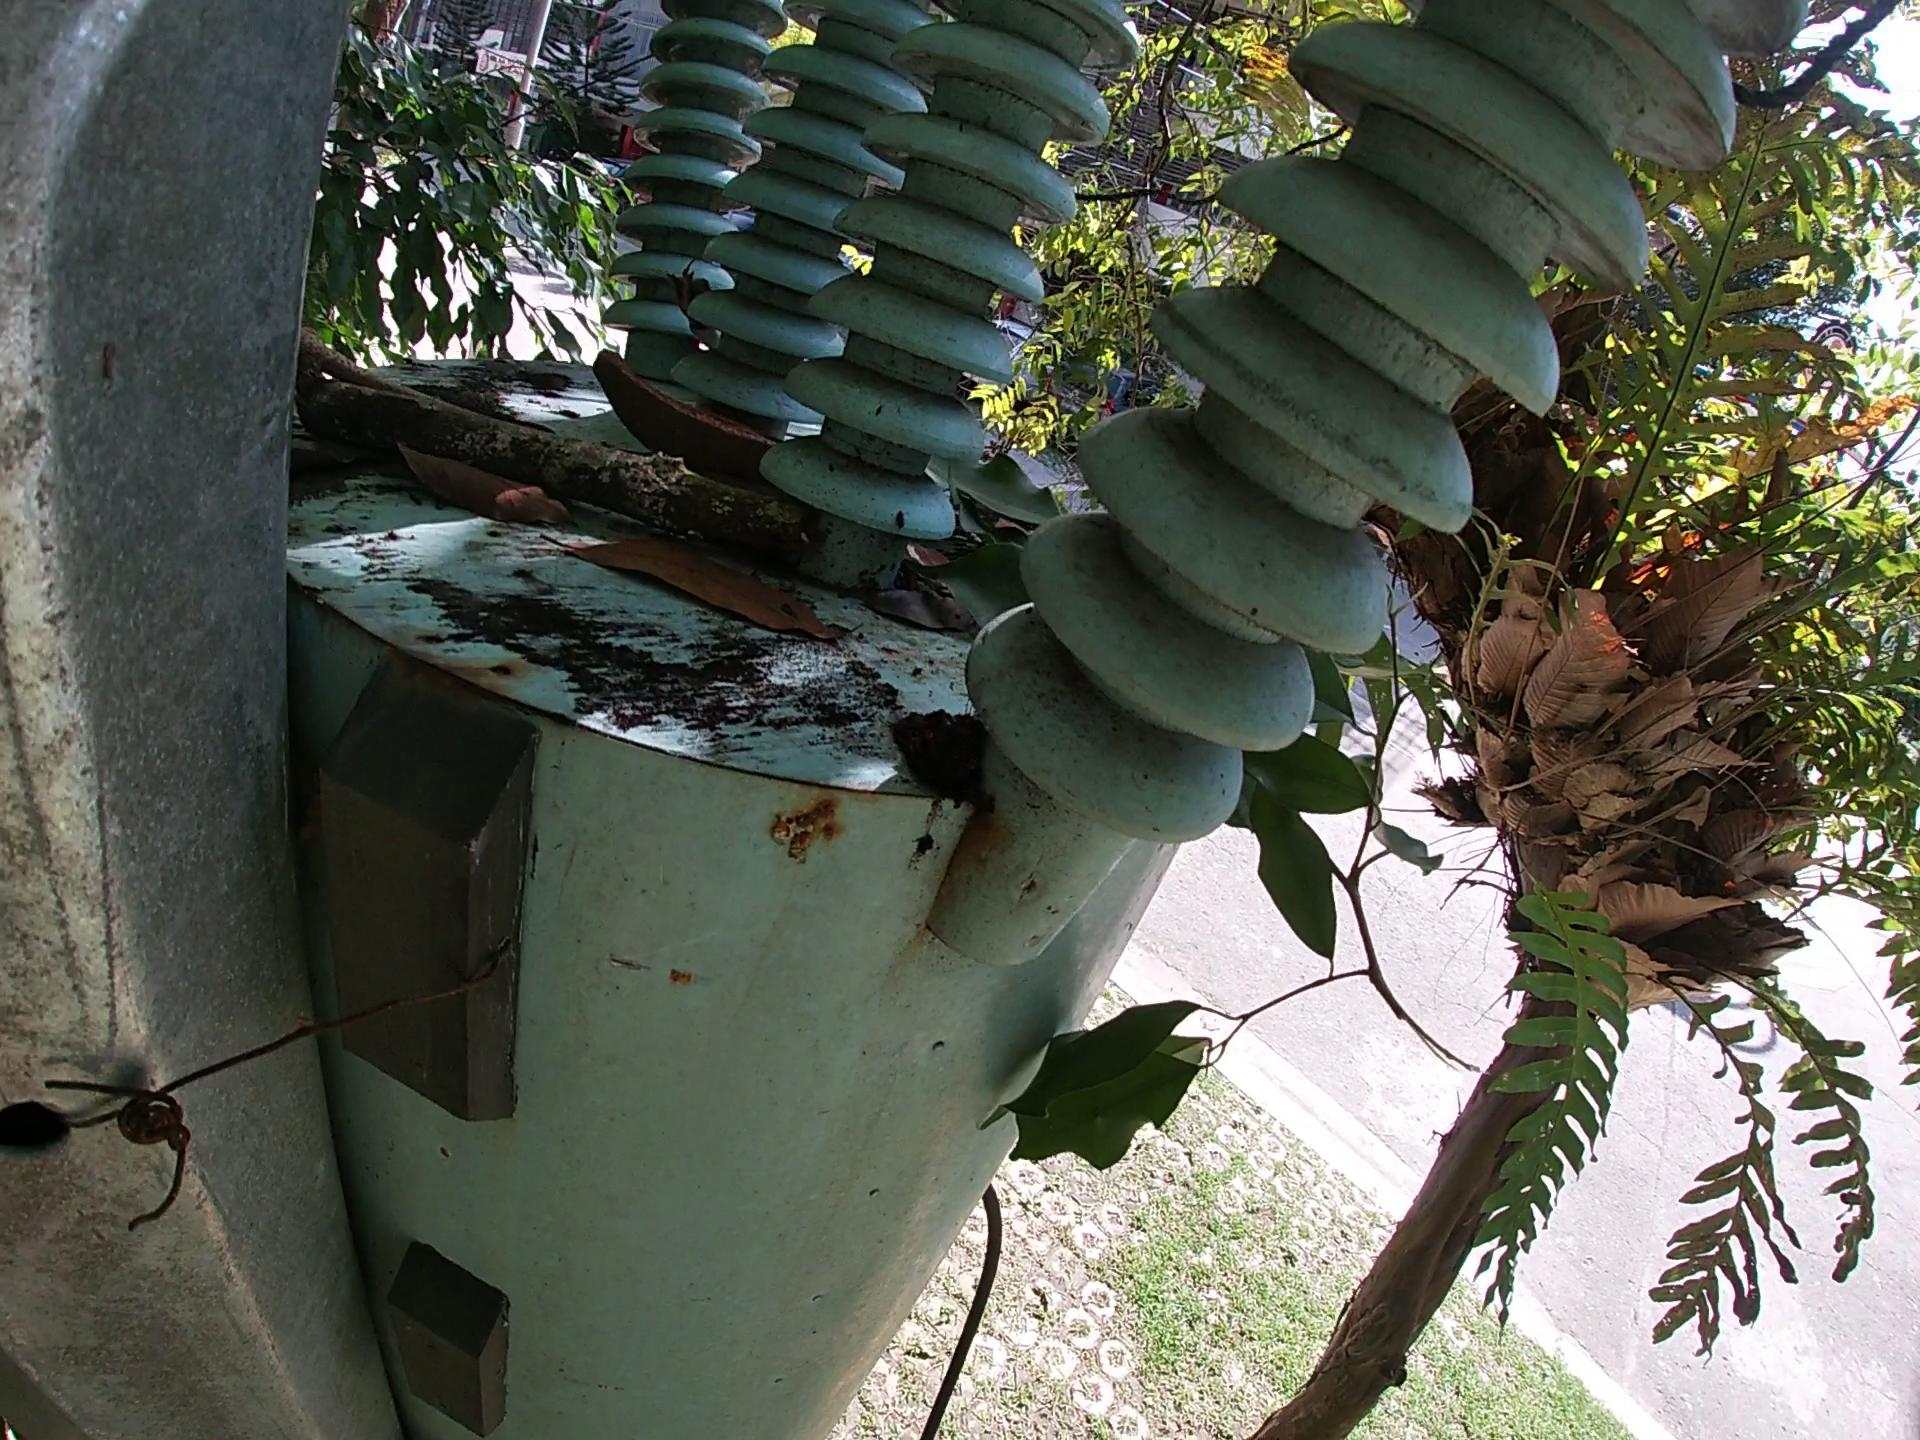branch with leaves: (972, 514, 1494, 1174)
leaf: (534, 529, 847, 652), (382, 437, 584, 540), (856, 579, 971, 637)
mahogany fruit: (590, 345, 785, 487)
tree branch: (293, 368, 819, 567)
